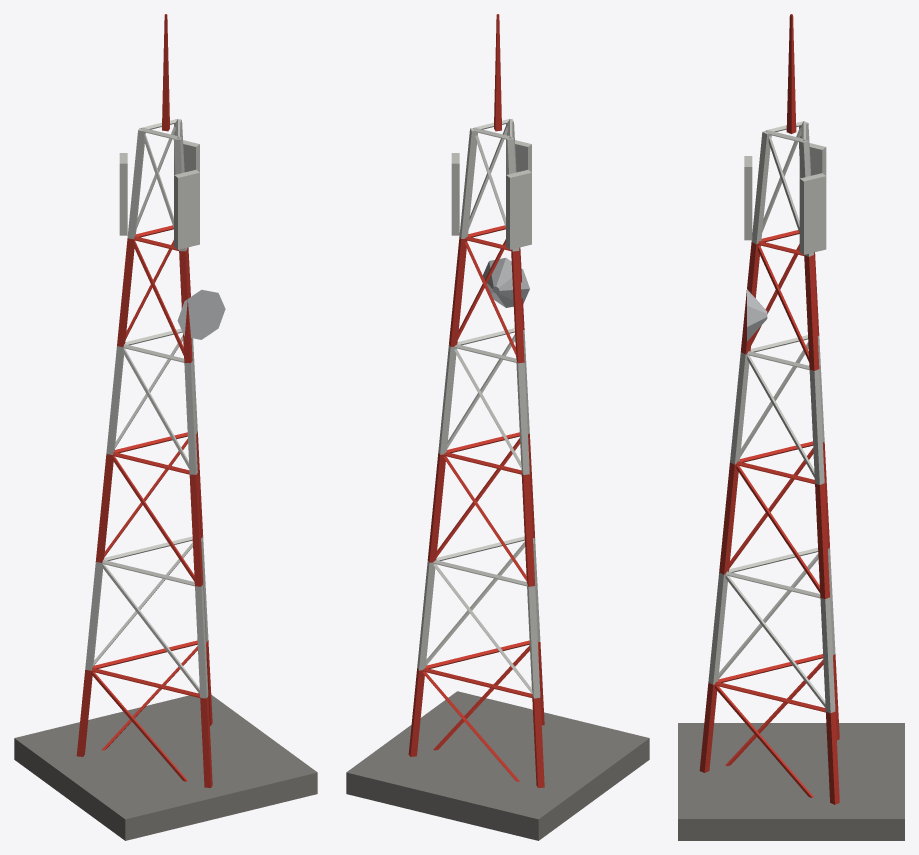
Rendered from radio_mast.glb.
3 views of the same model, side by side, from view 1: azimuth 30°, elevation 25°; view 2: azimuth 150°, elevation 25°; view 3: azimuth 270°, elevation 25° (orthographic). The views are drawn at different scales.
Parts seen in each view (by area): view 1: radio_mast2; view 2: radio_mast2; view 3: radio_mast2.
Part boxes in pixels (x1,y1,x2,y2): radio_mast2: (14,14,317,840); radio_mast2: (346,14,649,840); radio_mast2: (678,14,904,840).
Size of the model in its own units: 2.24 by 8.5 by 2.24.
